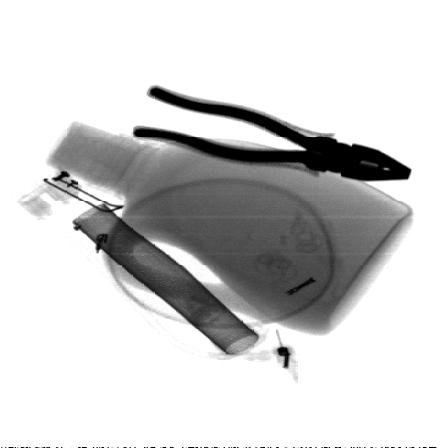Pliers: (132, 84, 414, 182)
